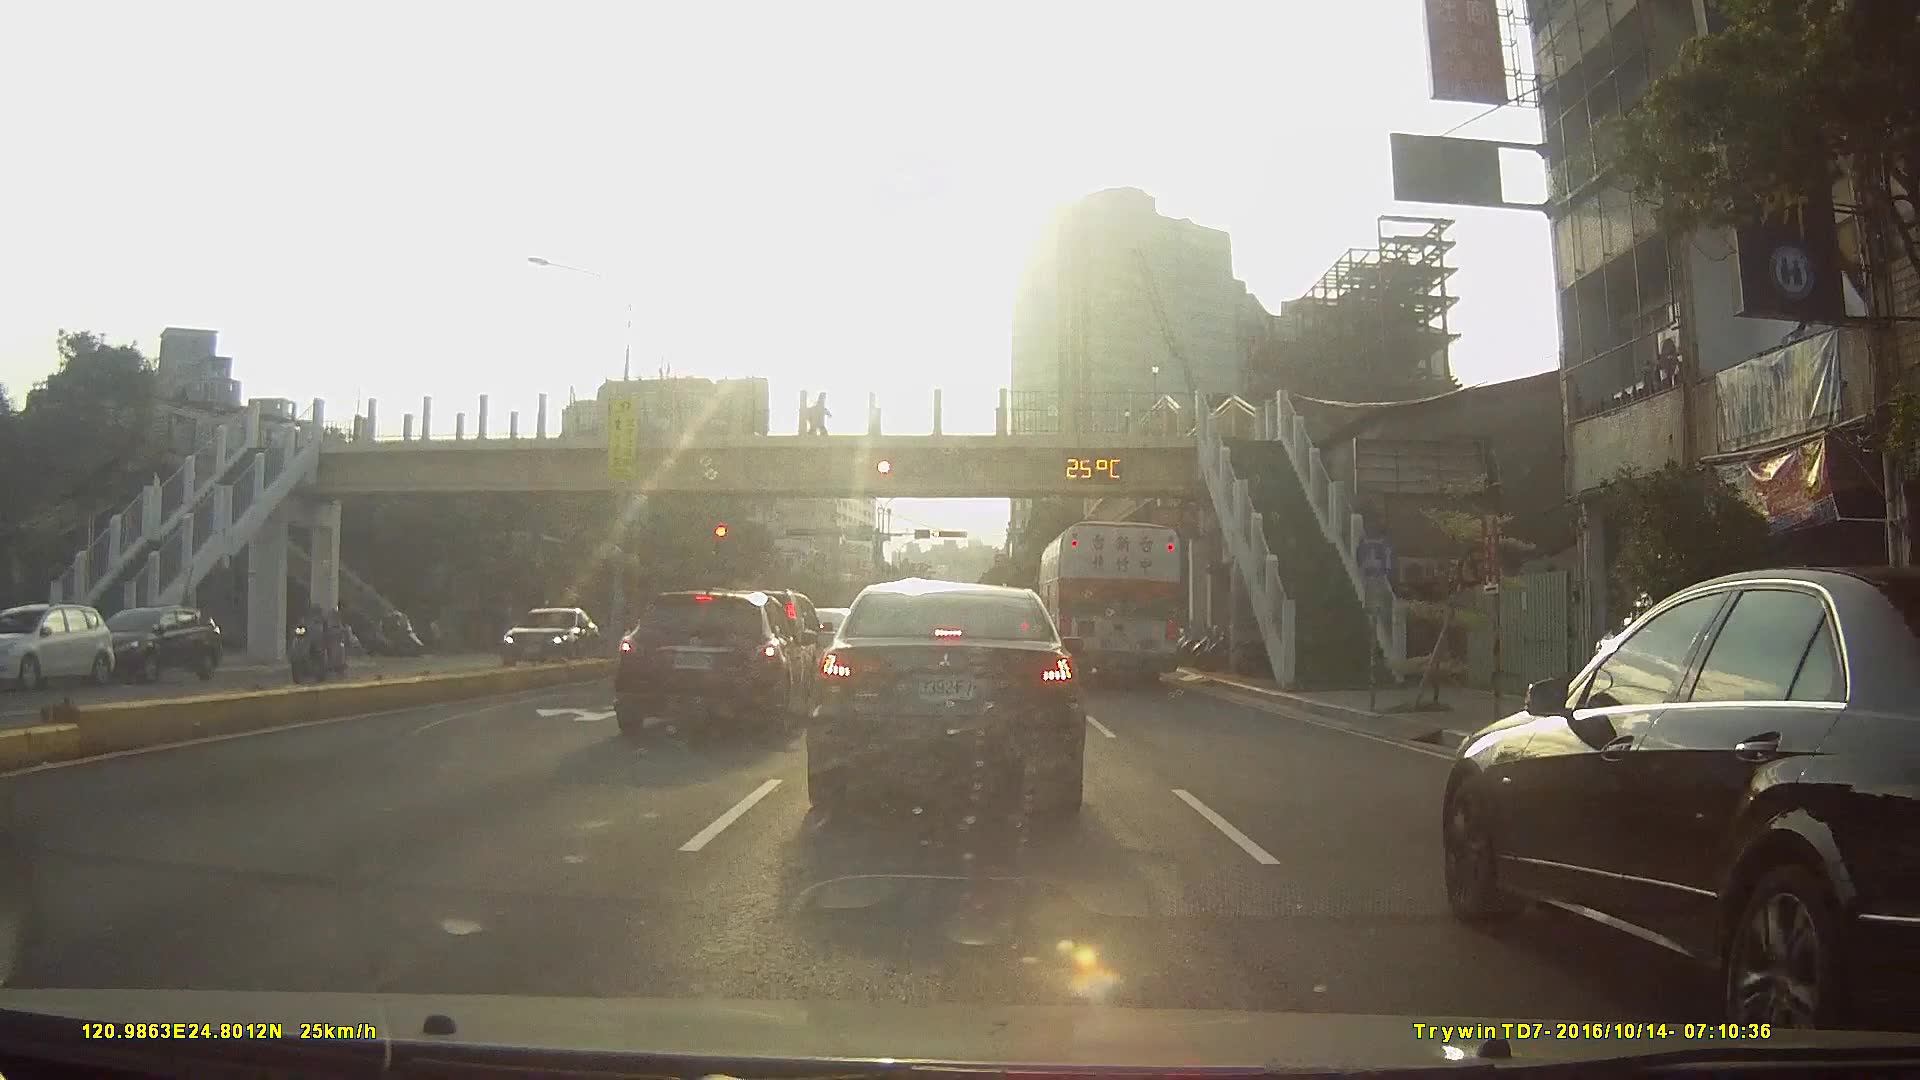pedestrian: (810, 393, 831, 441)
rider: (287, 597, 336, 686)
vehicle: (1433, 564, 1920, 1042), (803, 578, 1086, 815), (608, 585, 816, 738), (1037, 518, 1185, 689), (84, 602, 218, 681), (0, 600, 114, 690), (492, 606, 595, 665)
